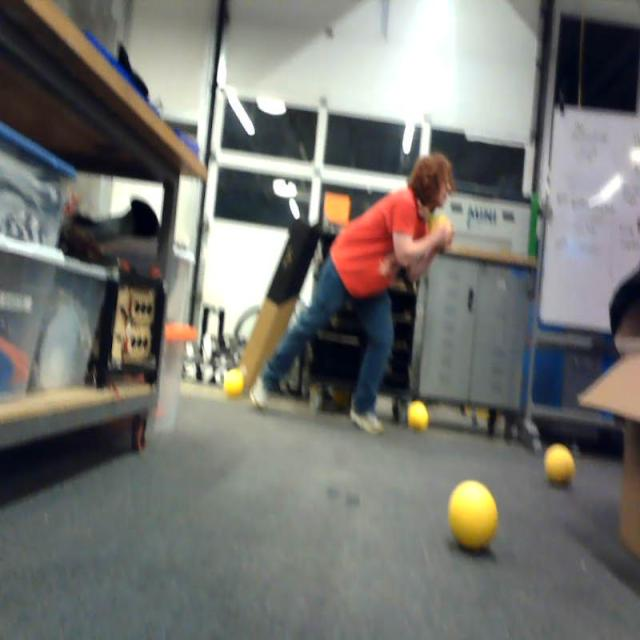Fuel: (450, 482, 498, 550), (545, 445, 575, 489), (224, 370, 243, 397), (408, 403, 427, 429)
